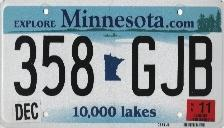3: (12, 33, 39, 98)
5: (40, 34, 67, 98)
8: (69, 34, 96, 98)
B: (187, 34, 214, 98)
C: (129, 33, 157, 99)
J: (159, 35, 187, 98)
